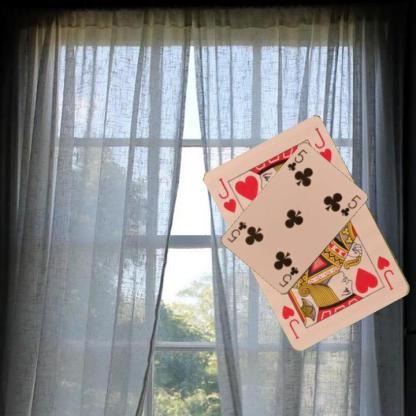5c: (276, 264, 300, 289), (285, 147, 308, 172)
Jh: (216, 175, 238, 215), (374, 253, 396, 292)
